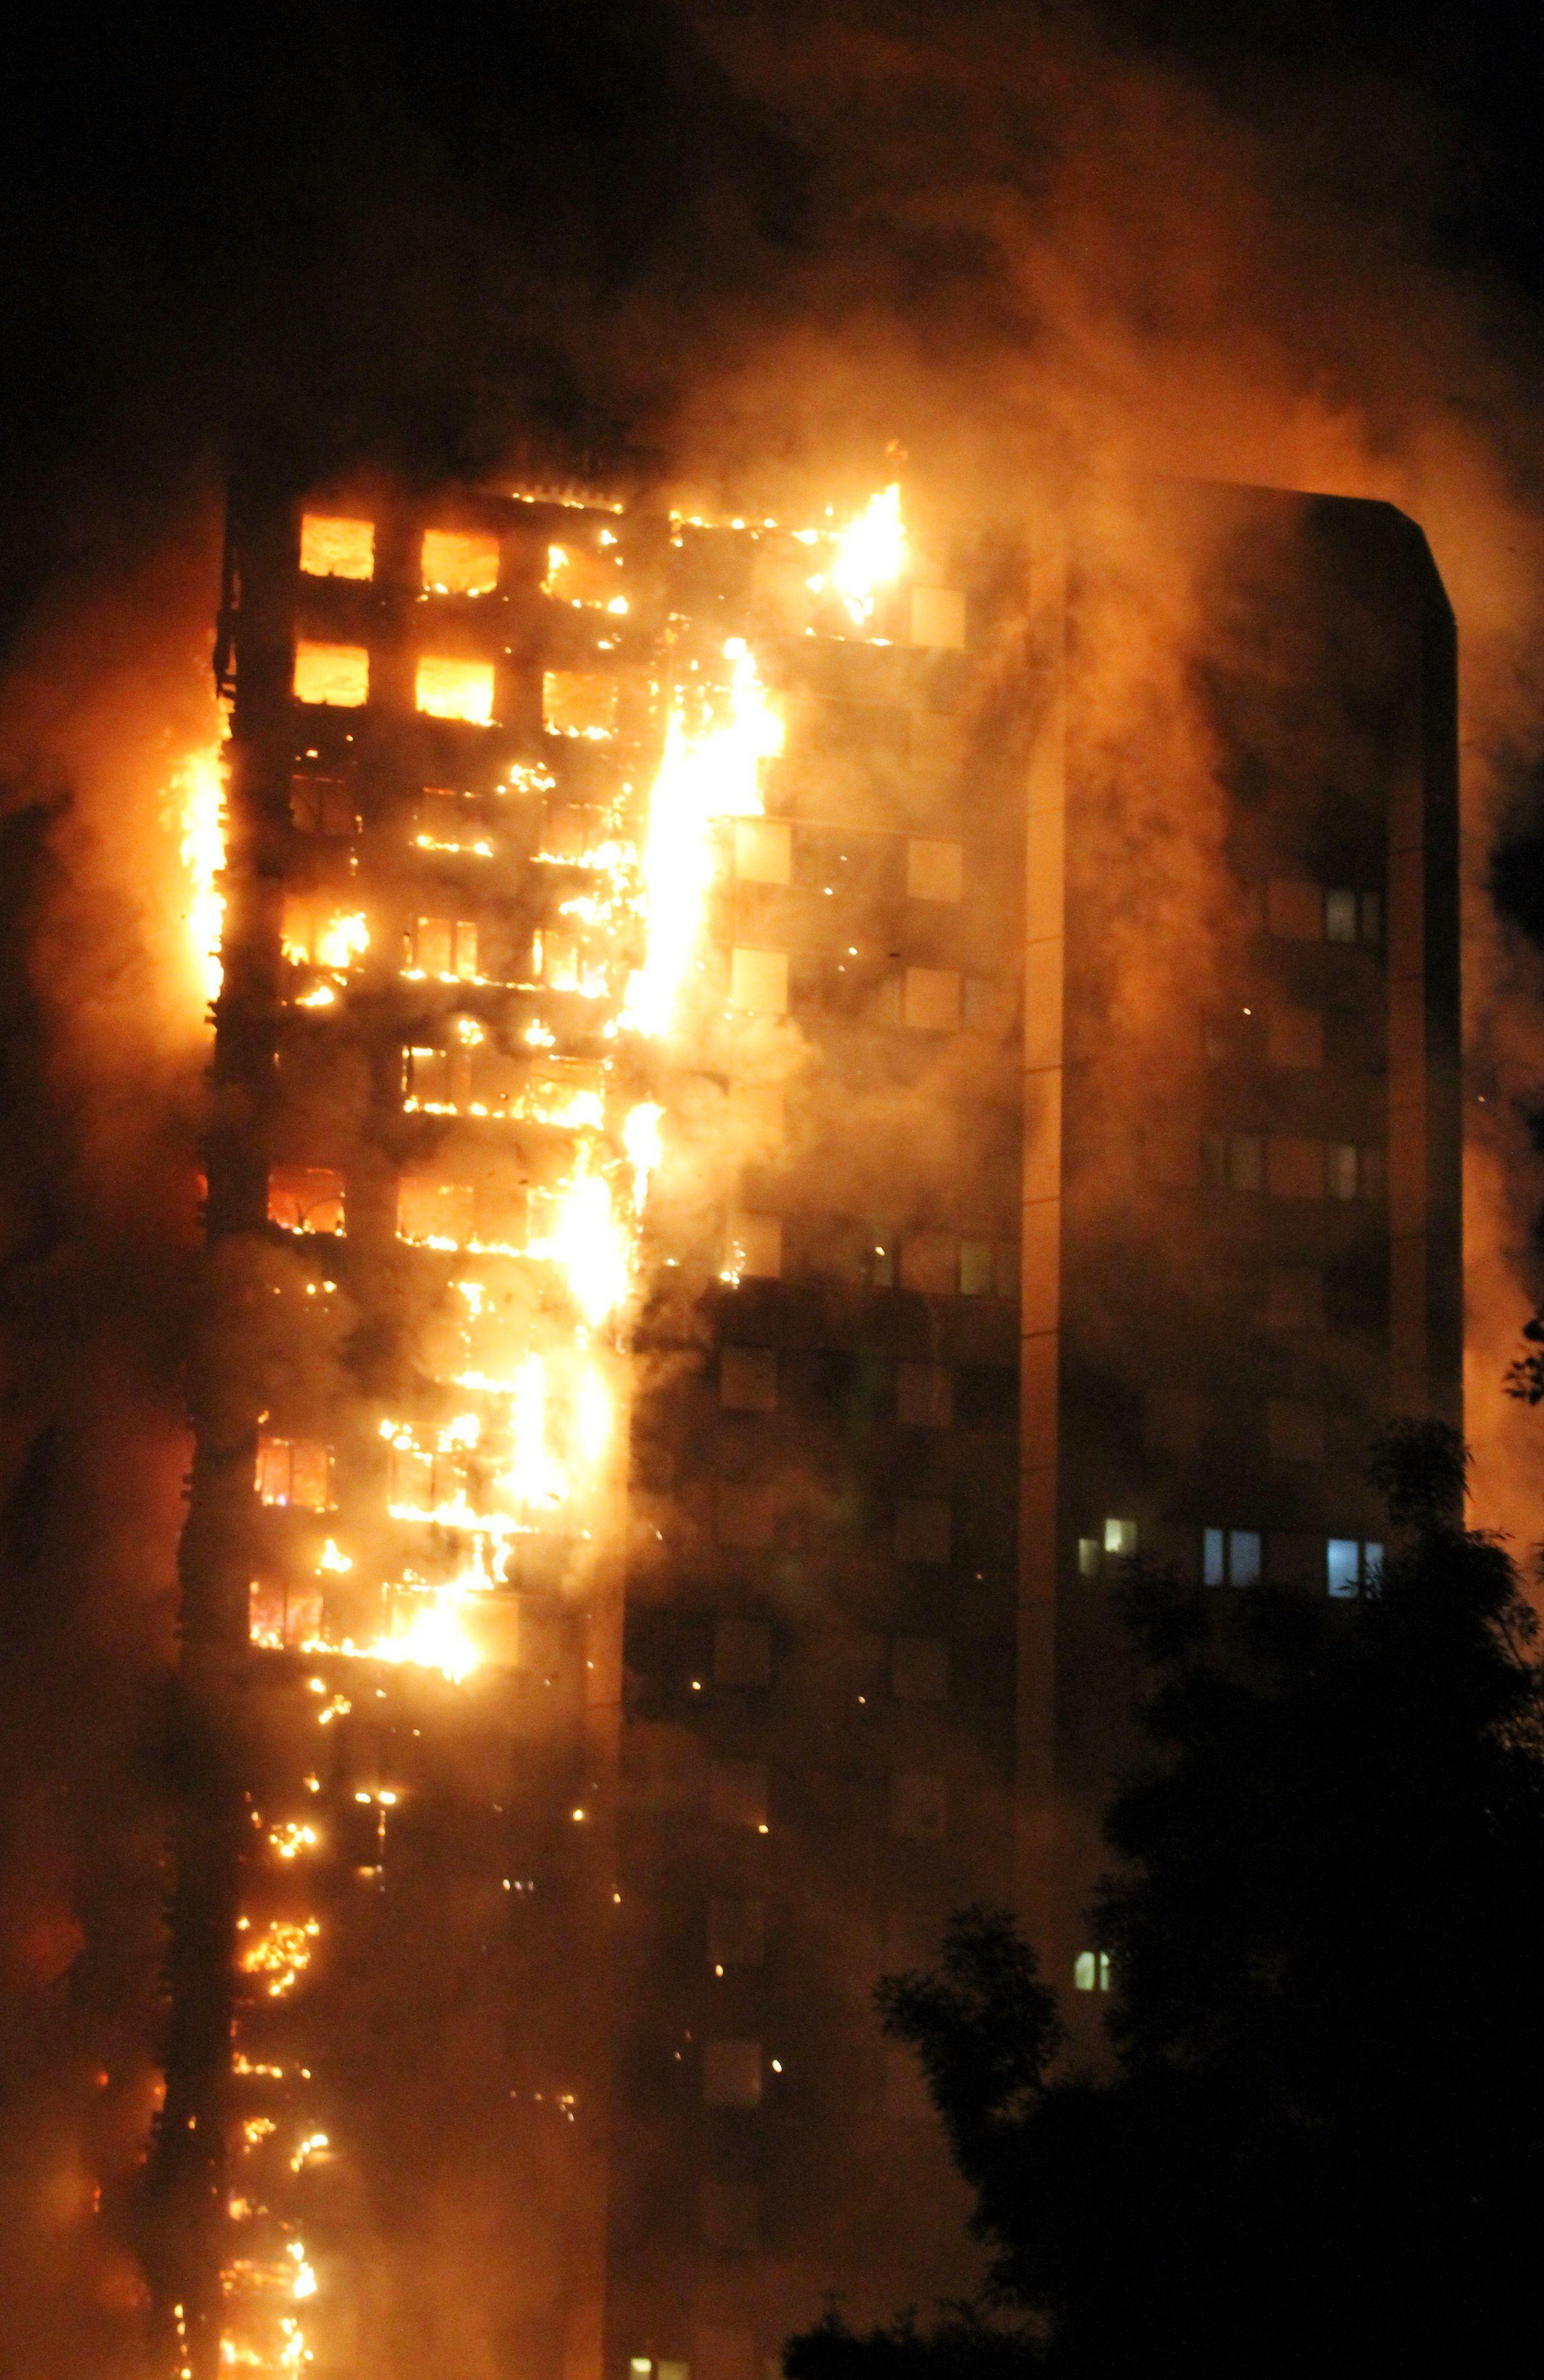Fire: (120, 389, 952, 2380)
